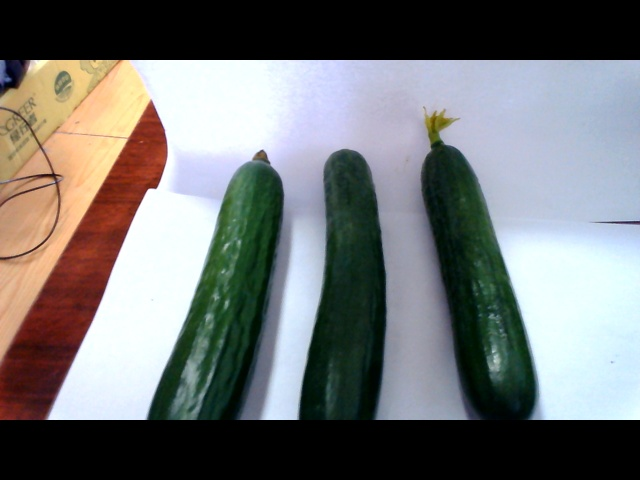cucumber: (423, 106, 547, 416), (153, 141, 281, 418), (301, 134, 386, 417)
